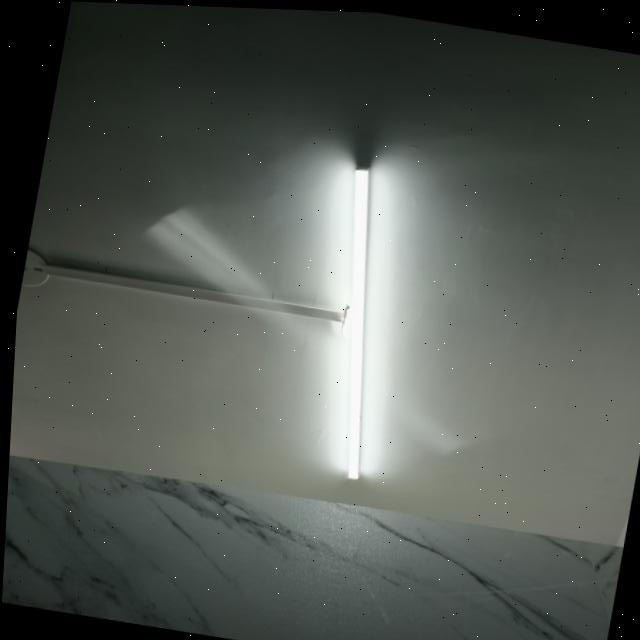fluorescent tube: (289, 150, 419, 491)
